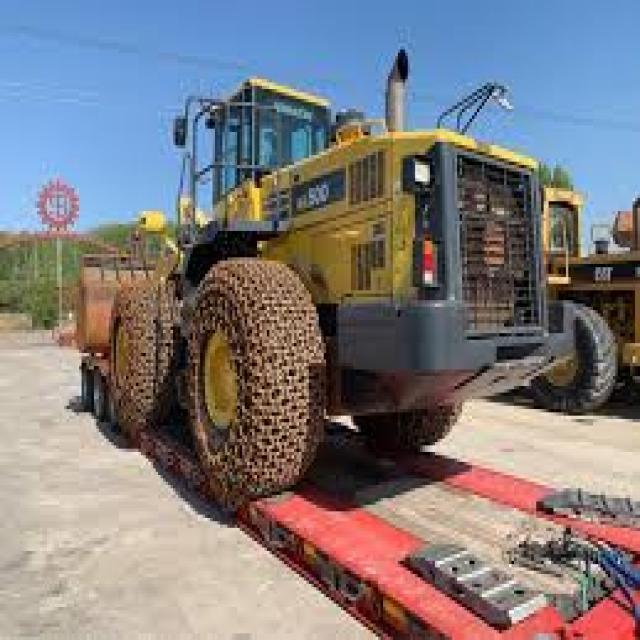buldozerpayloadergrader: (76, 66, 554, 502)
